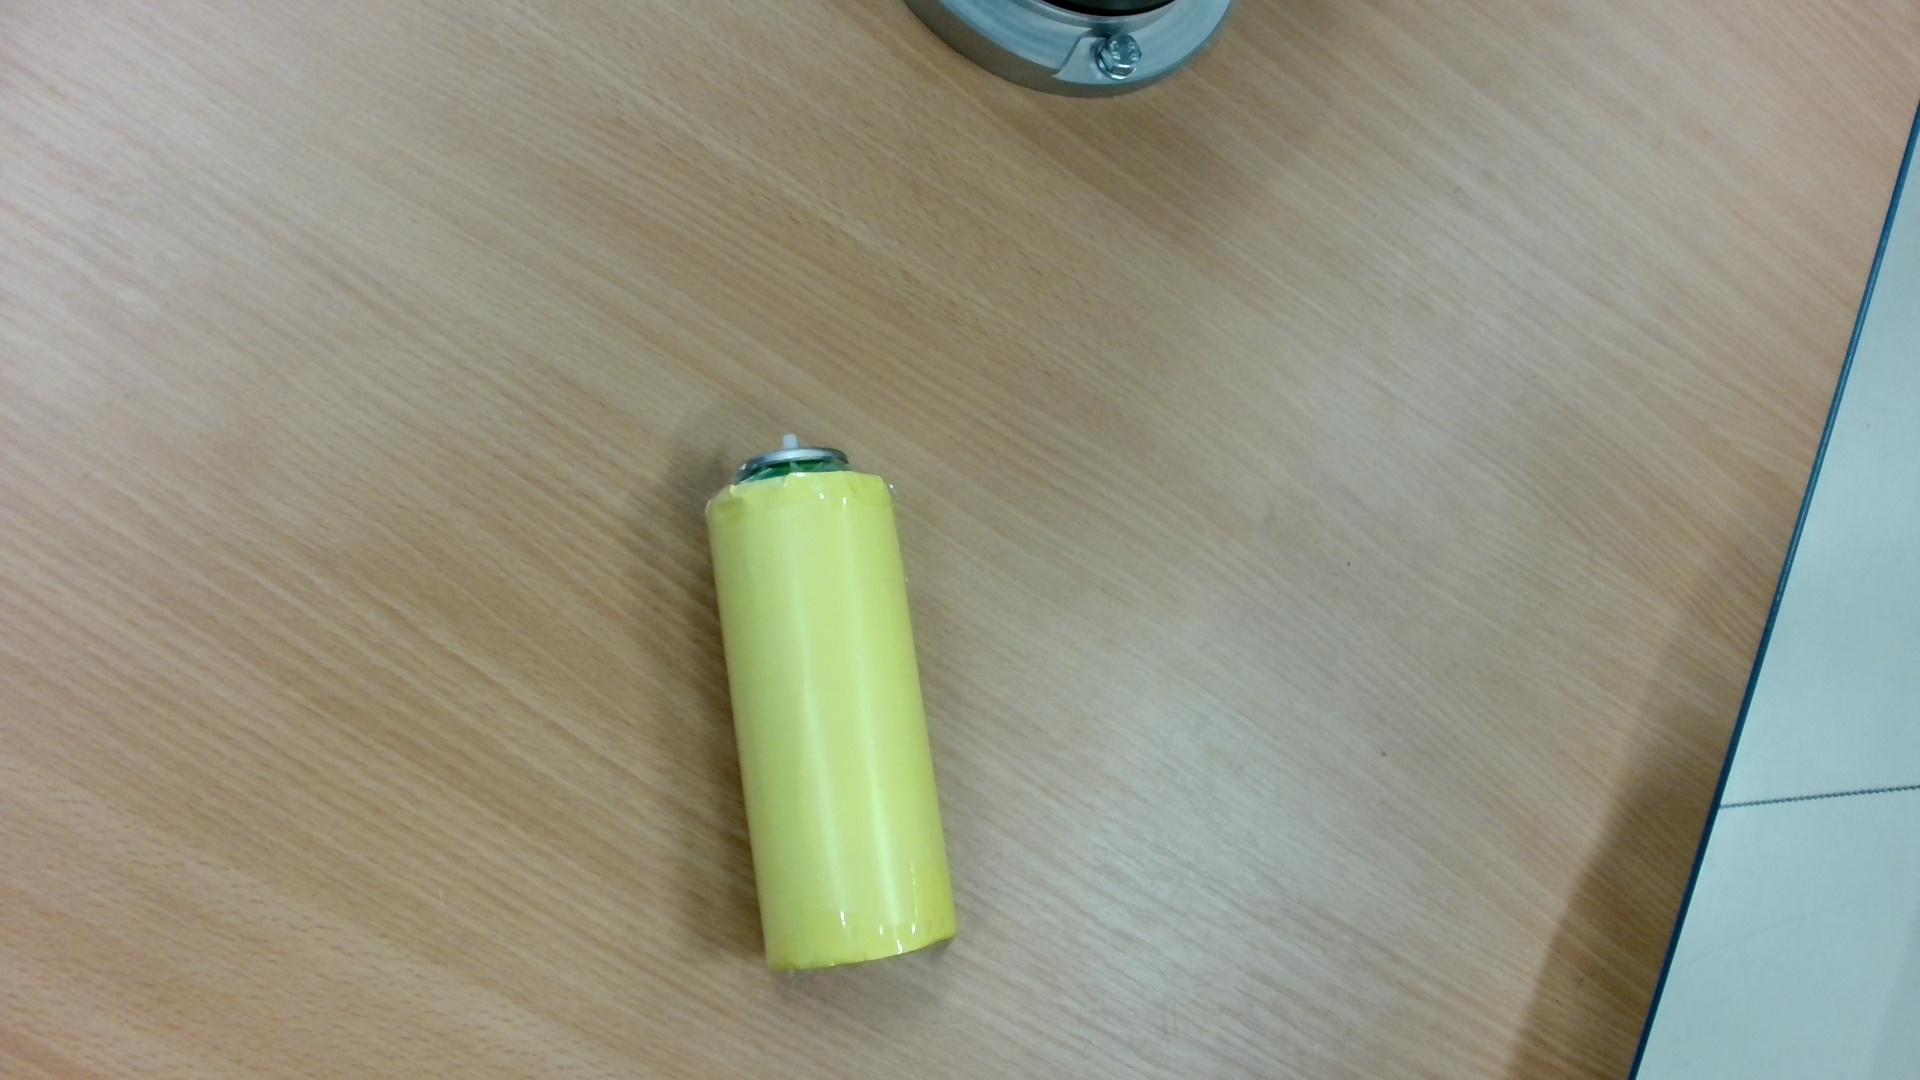Cylinder: (690, 425, 980, 986)
